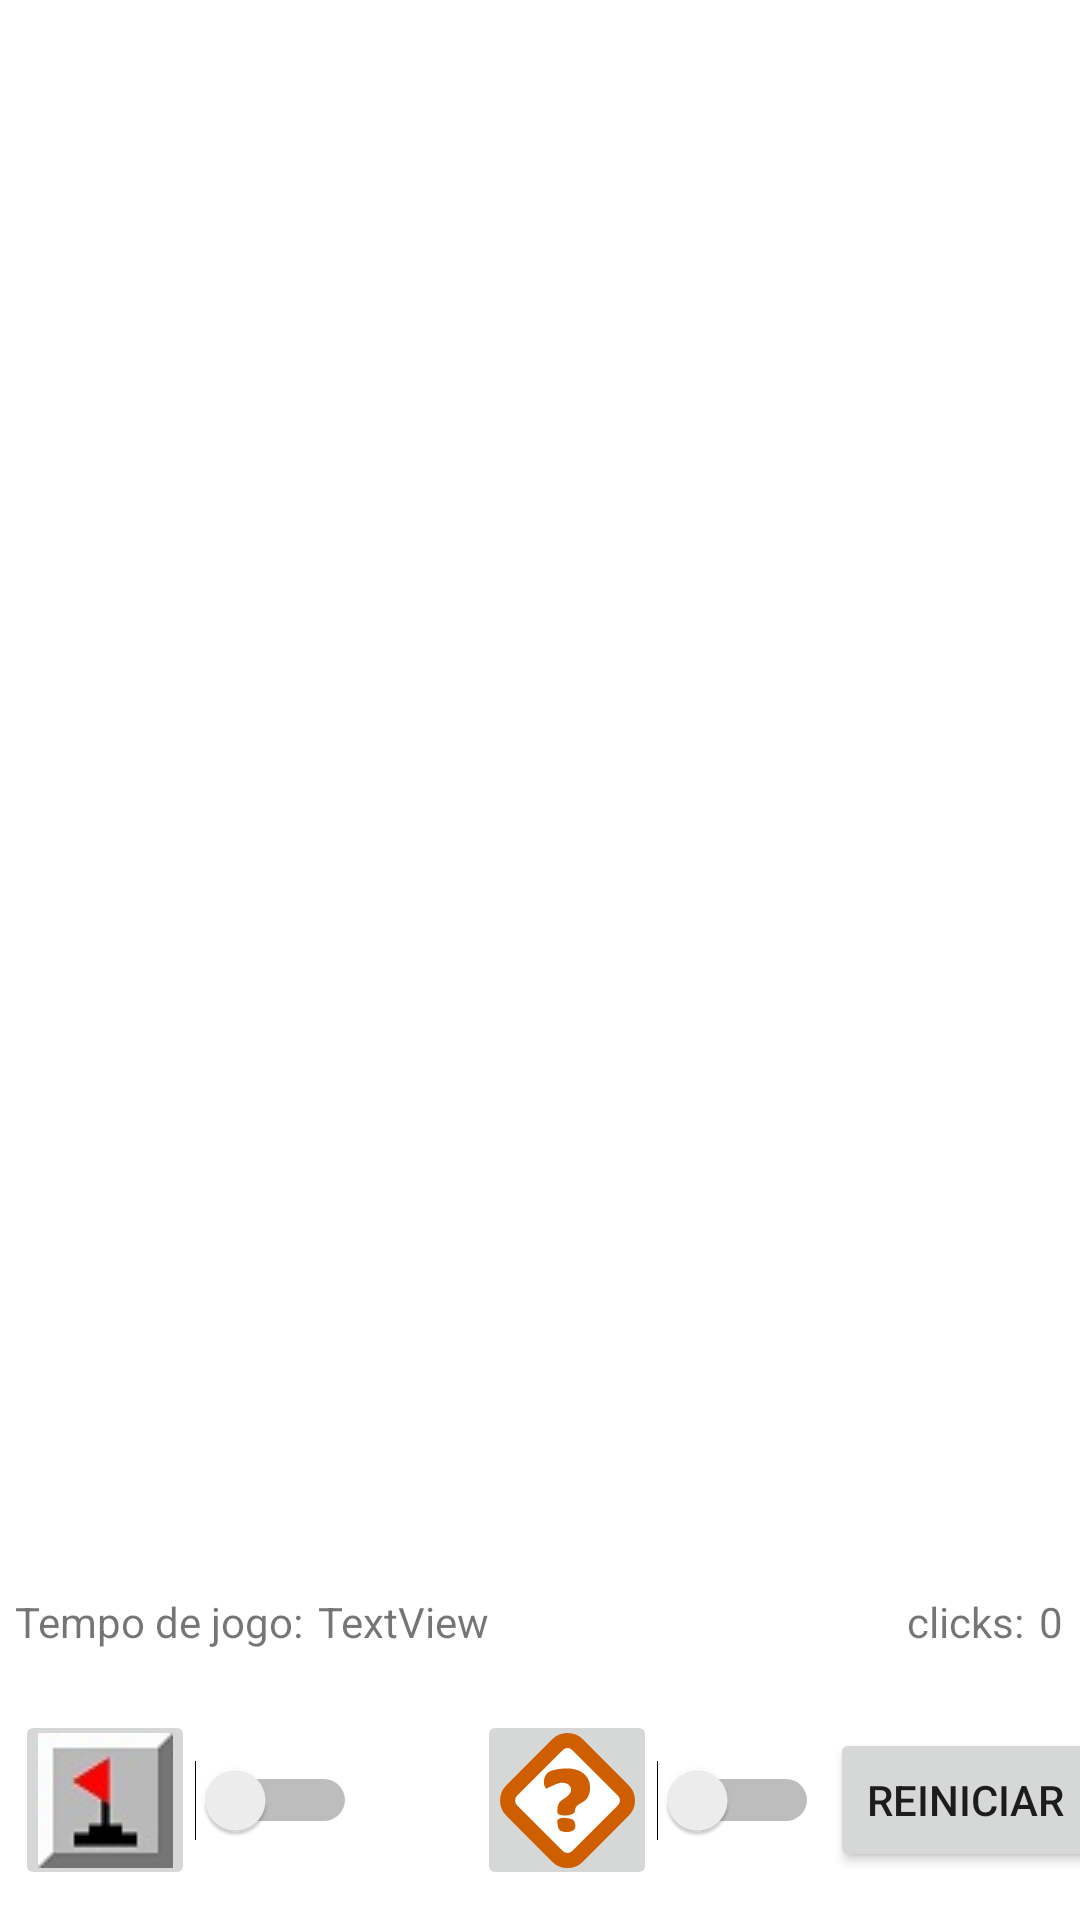

Where icons sit on this 1080 × 1920 app screen, as (x1, y1, x2, y2):
bandeirinha: (27, 1728, 183, 1872)
question: (489, 1728, 645, 1872)
